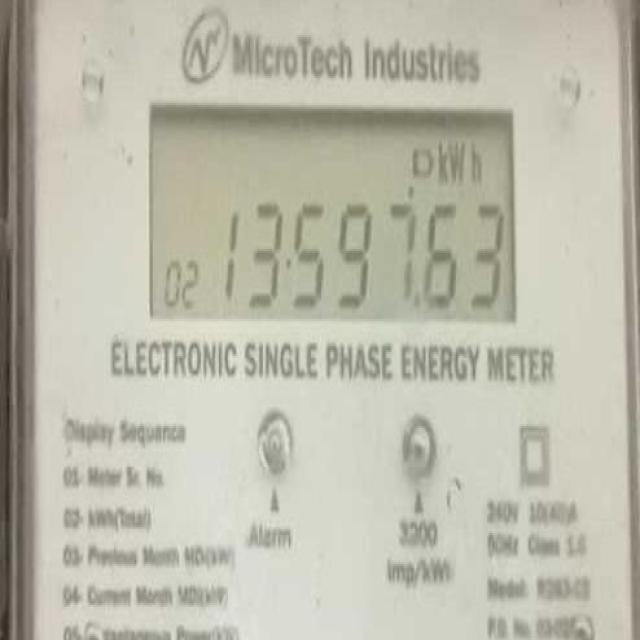1: (214, 199, 246, 311)
3: (469, 192, 507, 314), (246, 194, 282, 316)
5: (290, 192, 330, 312)
6: (422, 197, 461, 312)
7: (382, 192, 418, 318)
9: (333, 187, 375, 316)
Digital meter: (152, 98, 516, 322)
point: (413, 293, 426, 311)
